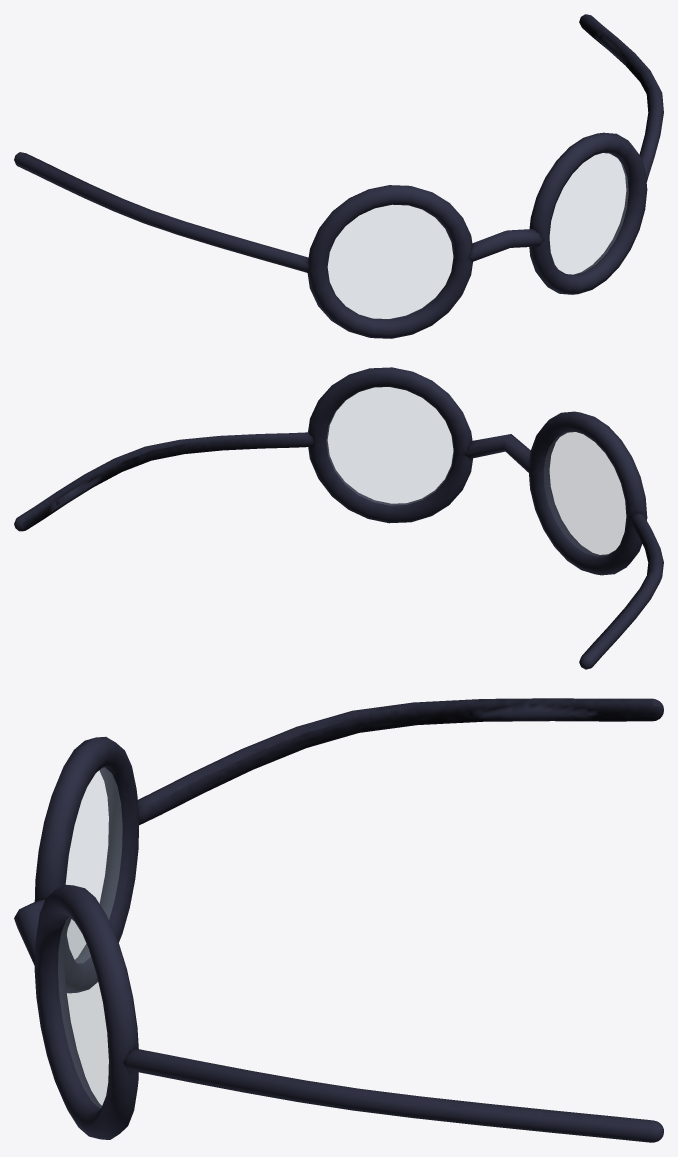
Rendered from glasses_round.glb.
The picture shows the model from 3 angles, top to bottom: view 1: azimuth 30°, elevation 25°; view 2: azimuth 150°, elevation 25°; view 3: azimuth 270°, elevation 25°; orthographic projection. The views are drawn at different scales.
Parts seen in each view (by area): view 1: glasses_round; view 2: glasses_round; view 3: glasses_round.
Part boxes in pixels (bbox=[...]): glasses_round: bbox=[14, 14, 663, 338]; glasses_round: bbox=[14, 367, 663, 669]; glasses_round: bbox=[14, 698, 663, 1142].
Bounding box in the file's own units: 0.5733 × 0.146 × 0.3648.
2 materials, 1 textured.
